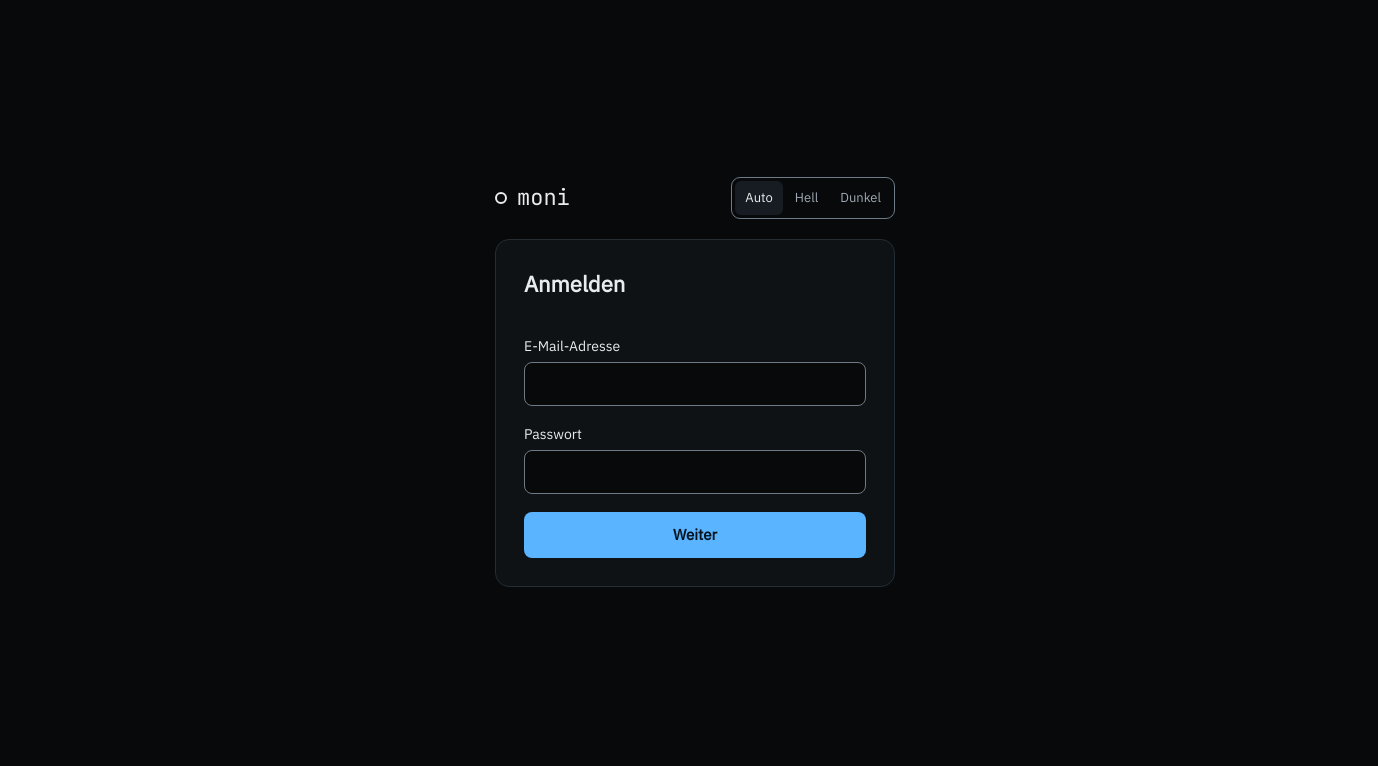
it: Login › Passwort-Login mit Stage full von /login?weiter=%2Fkonto landet auf /konto, nicht zurück im Login
Type "robin@example.test" into the field labelled "E-Mail-Adresse" at (695, 384), box [524,362,866,406]
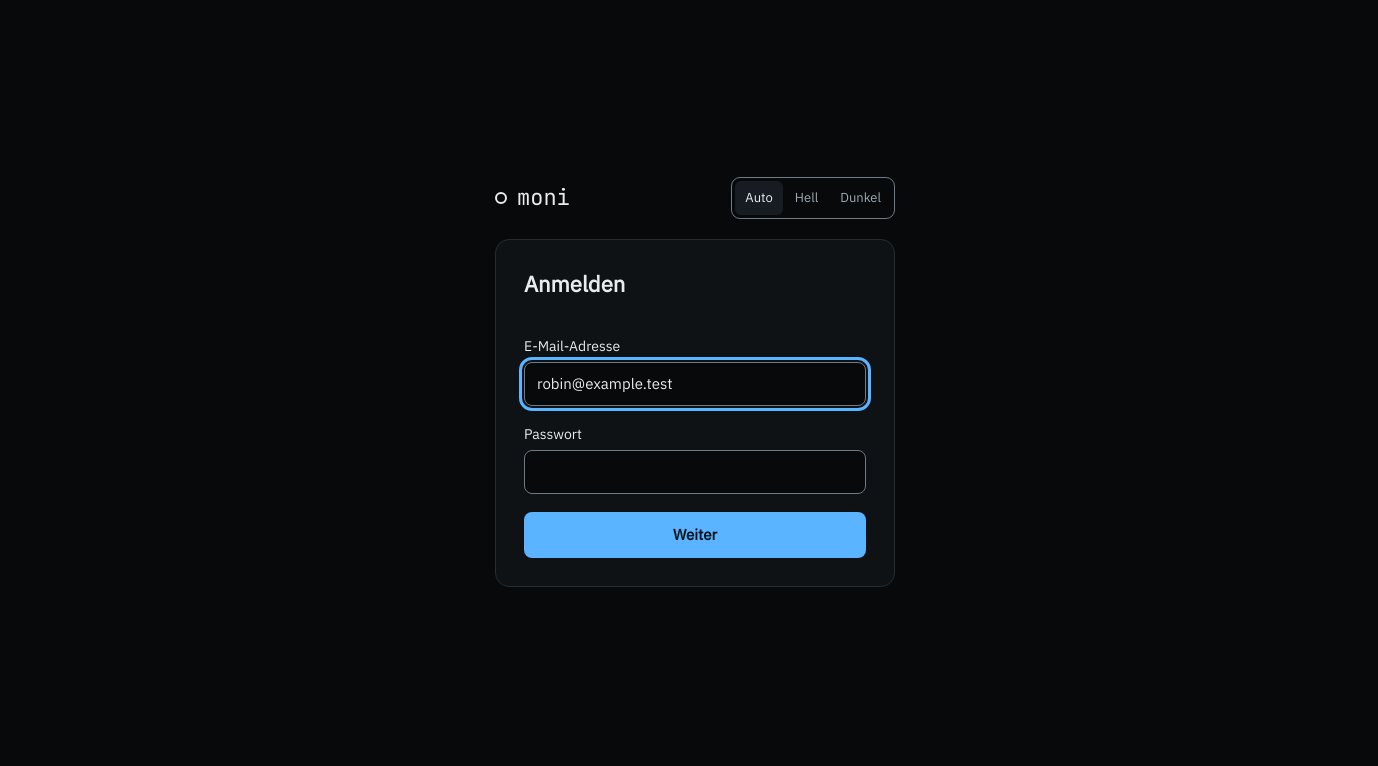
Type "geheim-1234" into the password field labelled "Passwort" at (695, 472), box [524,450,866,494]
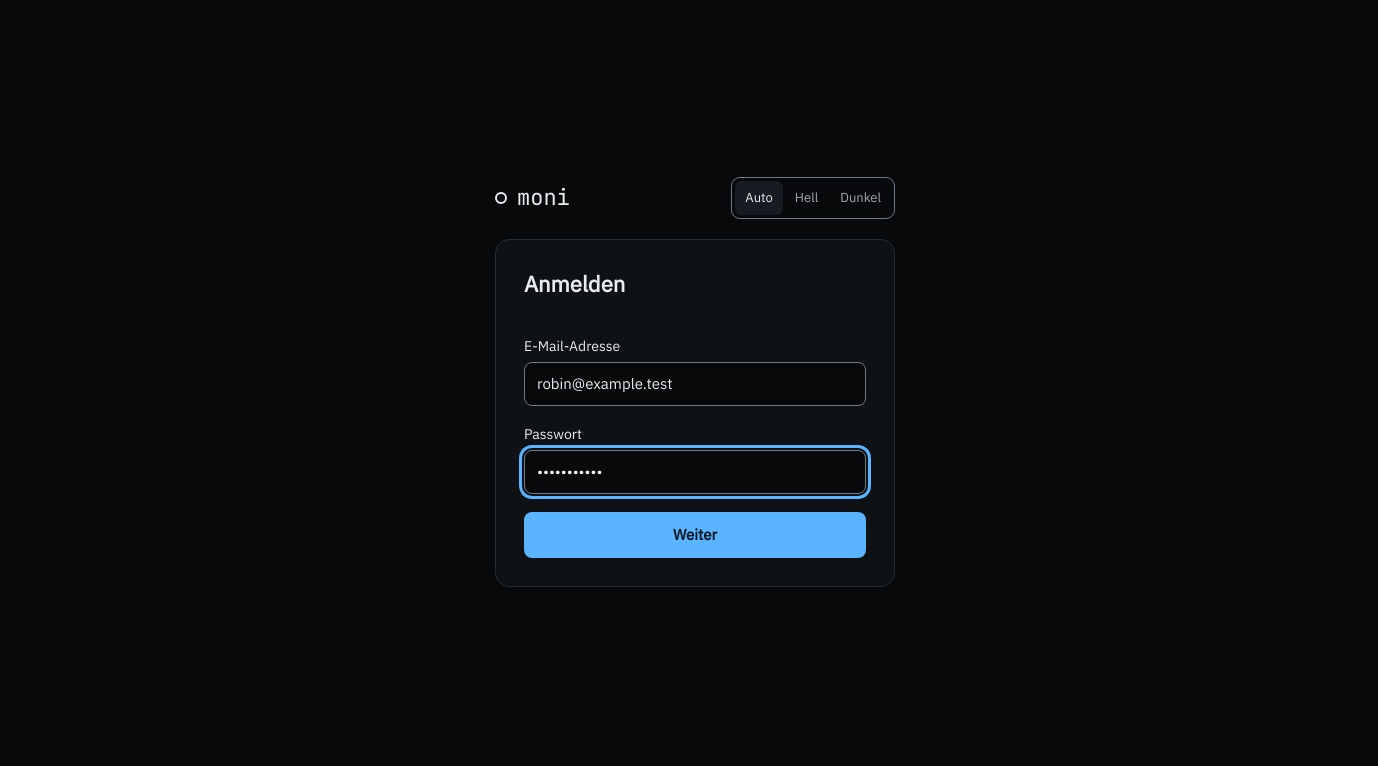
Click the button "Weiter" at (695, 535), box [524,512,866,558]
(page scrolled)
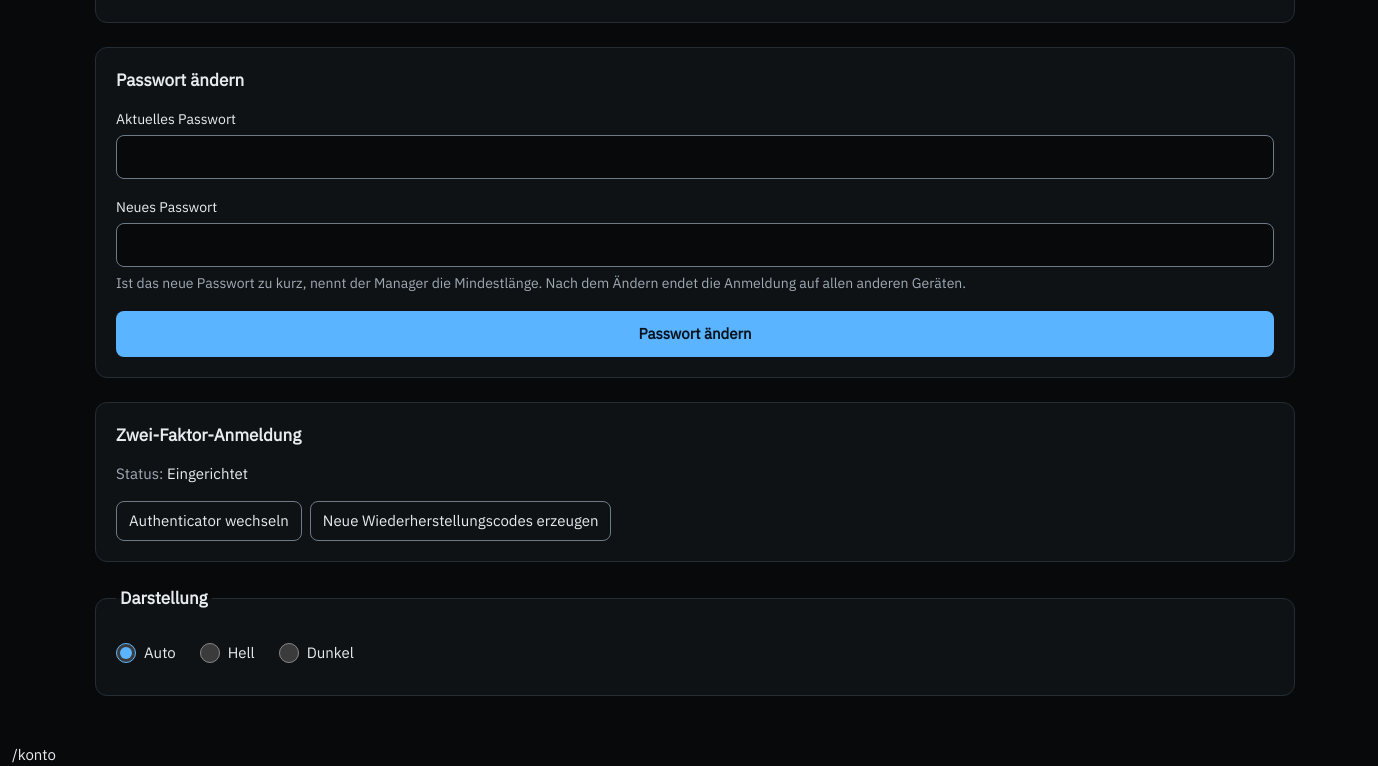
Expected: the text with test id "ort" reads "/konto", [12,745,56,764]
